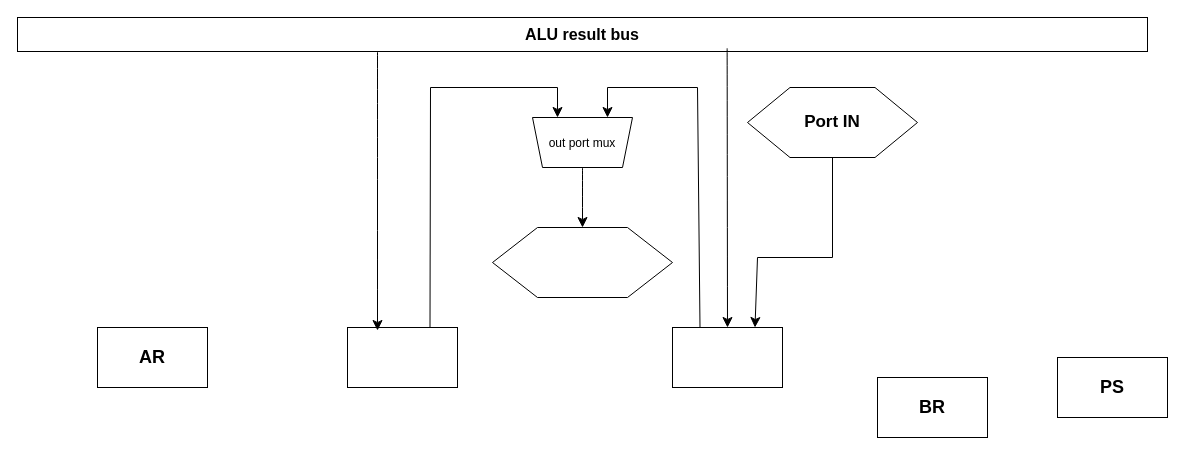
The diagram is 1185 pixels wide and 455 high, and some of its shapes have lost their labels. Each missing label, with the centre of its shape:
AC: (727,357)
DR: (402,357)
Port OUT: (582,262)
